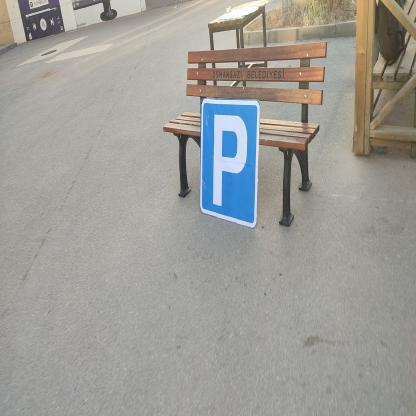Parking-Sign: (201, 100, 263, 235)
